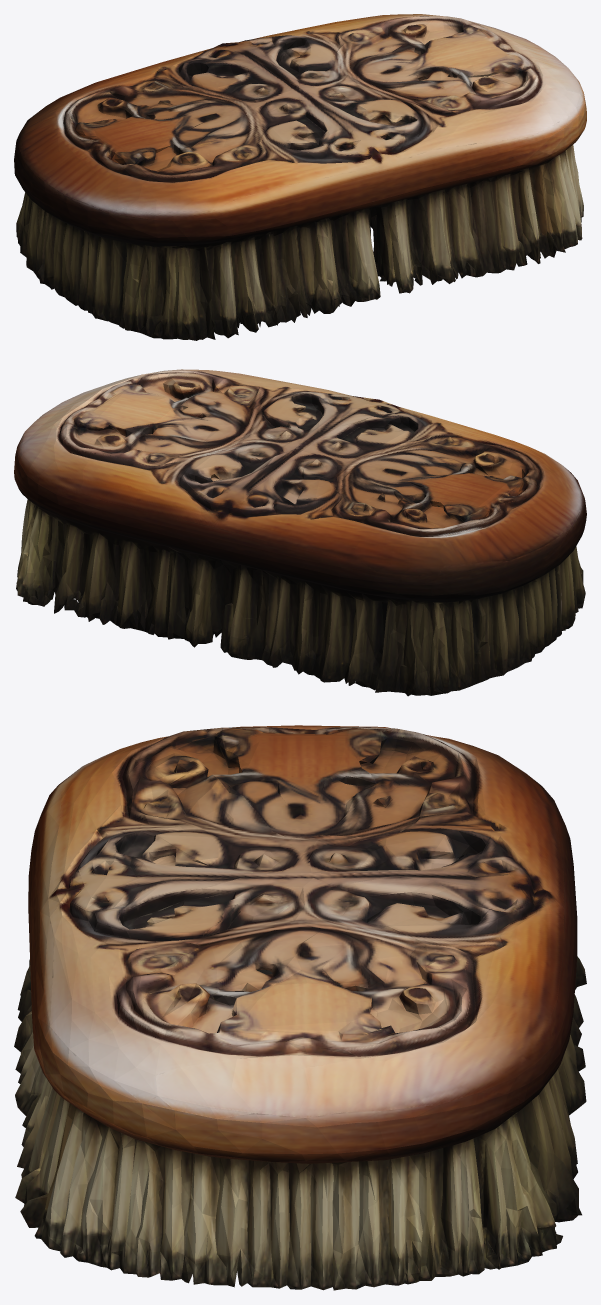
The model's file is wooden-nail-brush-vintage.jpeg.glb.
The picture shows the model from 3 angles, top to bottom: view 1: azimuth 30°, elevation 25°; view 2: azimuth 150°, elevation 25°; view 3: azimuth 270°, elevation 25°; orthographic projection. The views are drawn at different scales.
Visible parts, largest first — view 1: world; view 2: world; view 3: world.
Part boxes in pixels (box(x1,y1,x2,y2)): world: box(14, 14, 586, 340); world: box(14, 369, 586, 696); world: box(14, 725, 586, 1290).
Size of the model in its own units: 0.995 by 0.2767 by 0.6106.
Materials: 1 (1 with a texture image).
